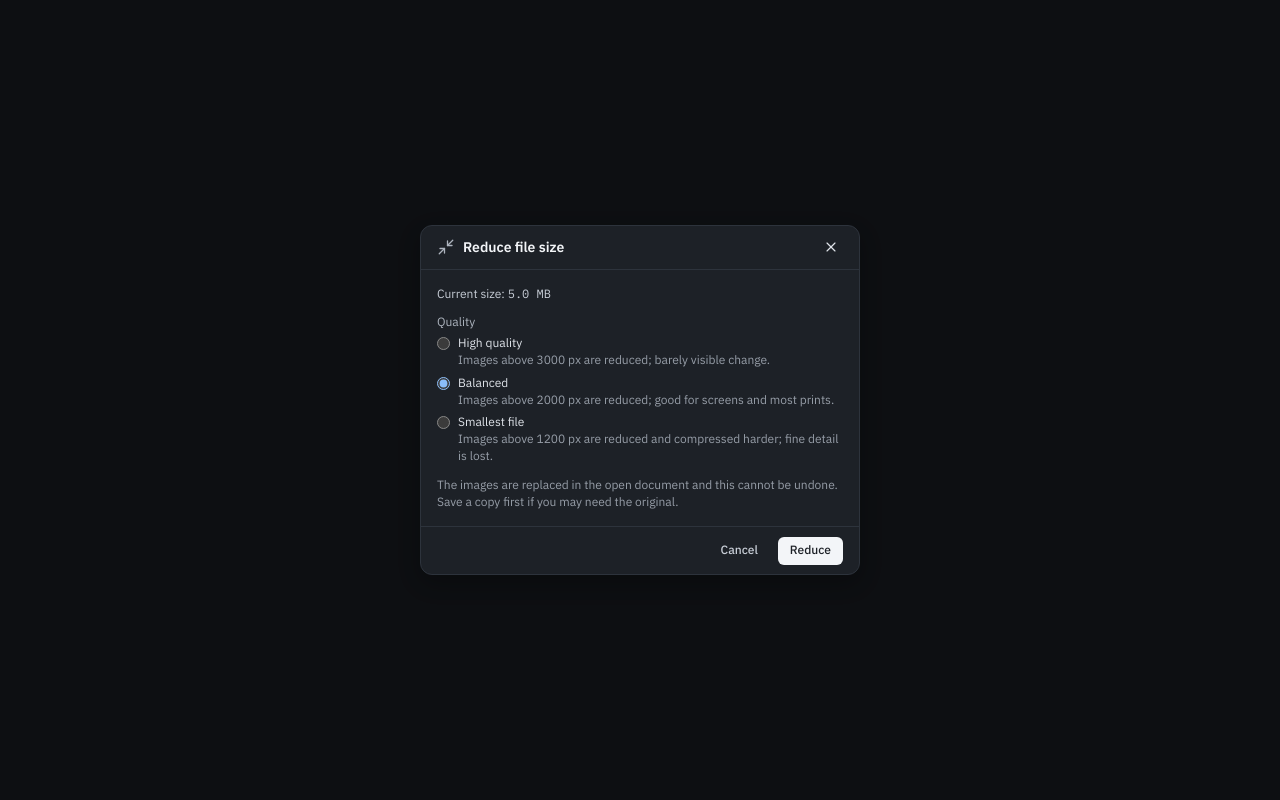
Test case: Diálogo Reduce File Size (ADR-0126) › si el archivo no puede quedar más pequeño lo dice y no presenta ahorro
The width and height of the screenshot is (1280, 800).
Click the button with test id "reduce-apply": coordinates (810, 551) [778,537,843,565]
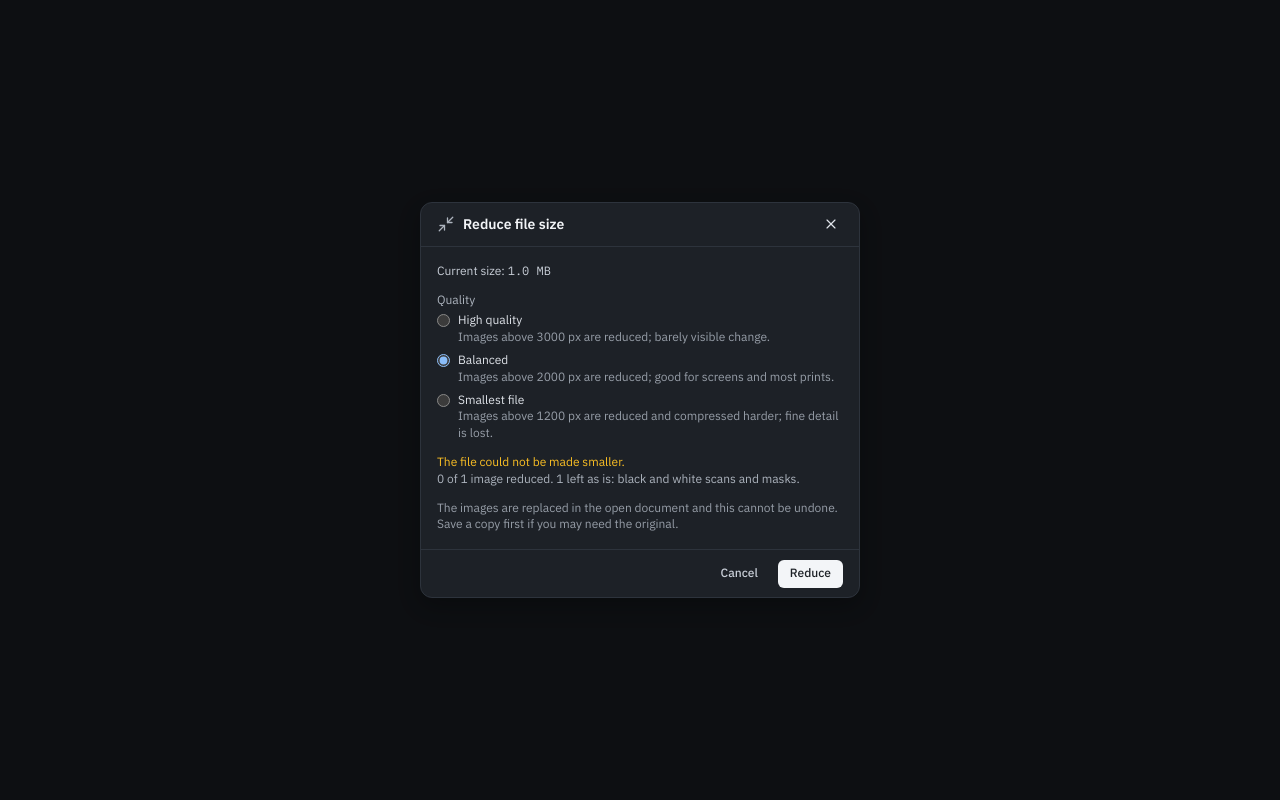
Expected: the element with test id "reduce-report" does not show "Saved", [437,454,843,488]
Expected: the element with test id "reduce-report" shows "The file could not be made smaller.", [437,454,625,469]
